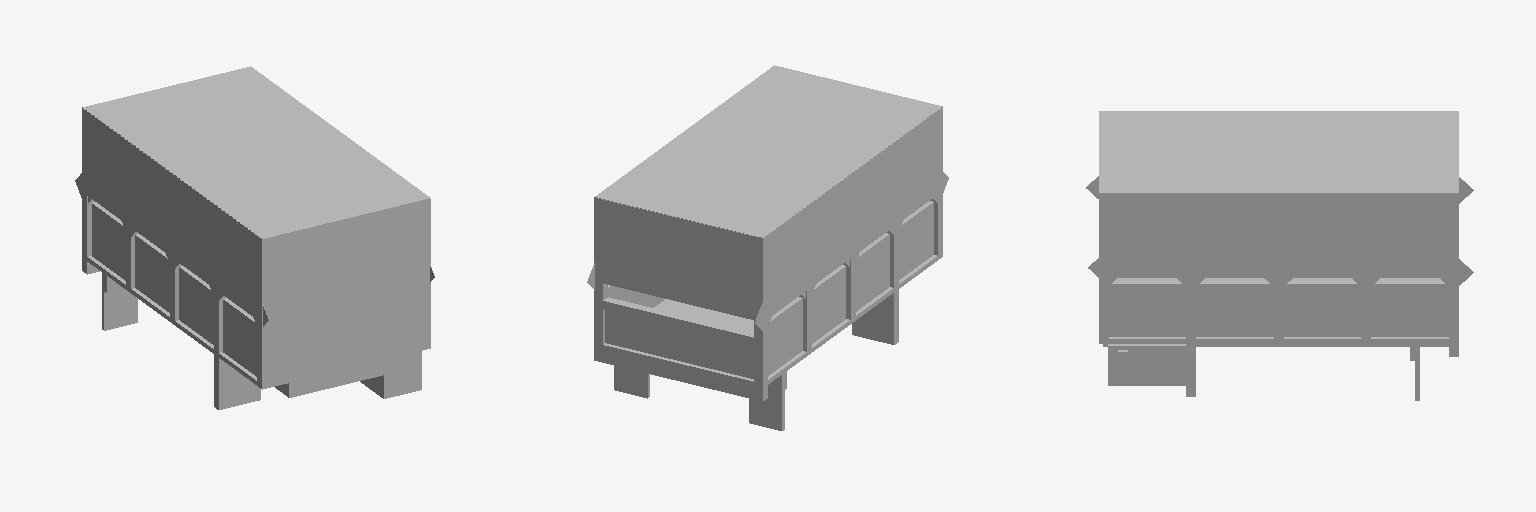
The model's file is brigbedtransport.obj.
3 views of the same model, side by side, from view 1: azimuth 30°, elevation 25°; view 2: azimuth 150°, elevation 25°; view 3: azimuth 270°, elevation 25° (orthographic).
Visible parts, largest first — view 1: #translucent_mudAcc_main, tarp, $rubberthings, body; view 2: tarp, #translucent_mudAcc_main, #$translucent_mudAcc_tailgate, body, $rubberthings; view 3: #translucent_mudAcc_main, tarp, body.
Part boxes in pixels (x1,y1,x2,y2): #translucent_mudAcc_main: (82,94,430,409); tarp: (82,66,429,238); $rubberthings: (102,289,137,330); body: (75,173,434,380); tarp: (594,65,942,320); #translucent_mudAcc_main: (594,94,942,401); #$translucent_mudAcc_tailgate: (603,297,753,378); body: (587,172,948,379); $rubberthings: (614,366,784,430); #translucent_mudAcc_main: (1099,194,1458,396); tarp: (1099,111,1458,193); body: (1086,176,1473,338).
Bounding box in the file's own units: 2.51 × 2.94 × 4.99.